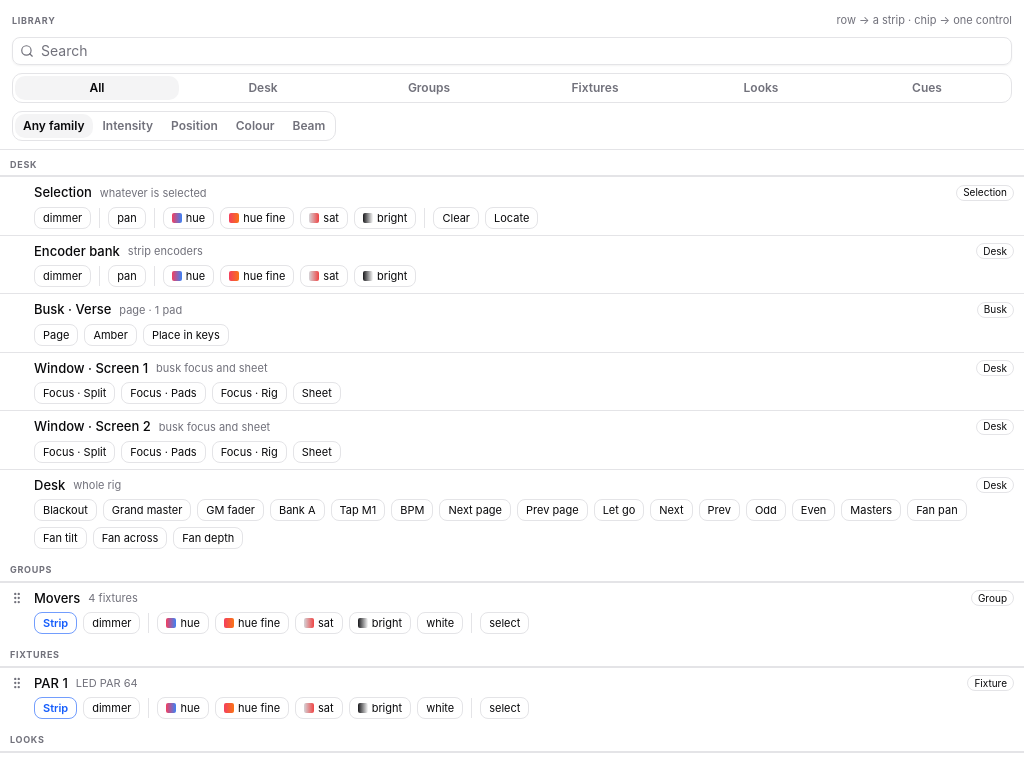
Test: SurfaceLibrary › files a palette under Looks and a busk page under Desk
The image size is (1024, 760).
Click the button "Looks" at x=761, y=88, box [679,76,843,100]
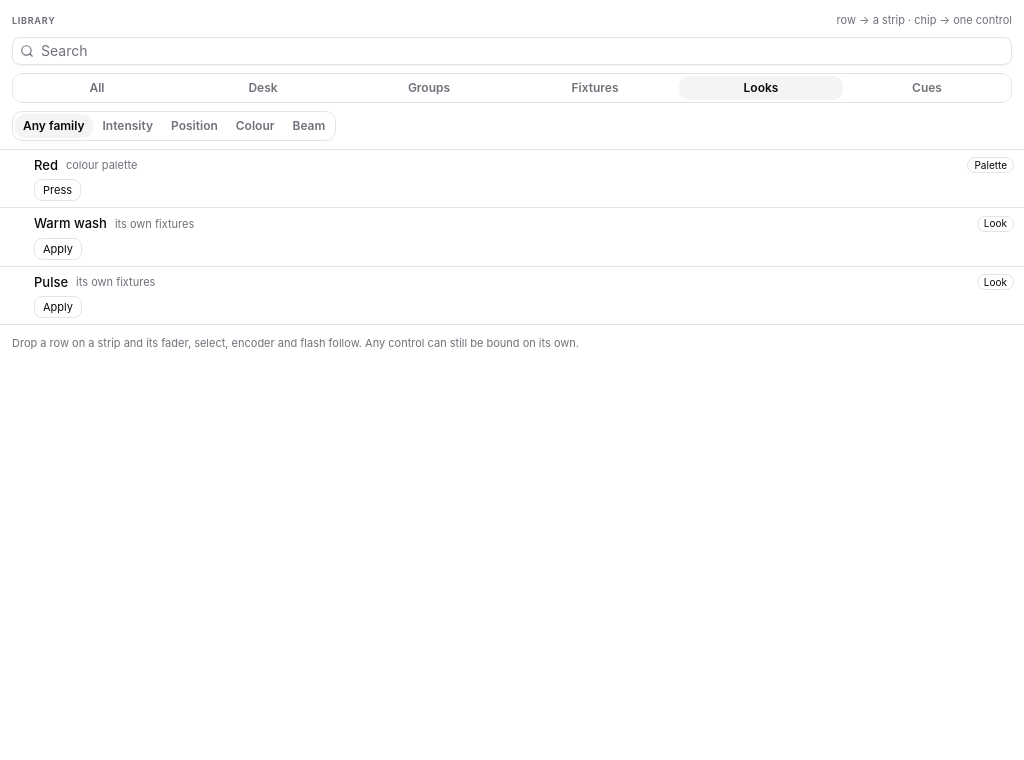
Check: the element with test id "library-row:palette:tmpl-red" is shown, box [34,156,1014,173]
Check: the element with test id "library-row:look:look-warm" is shown, box [0,207,1023,266]
Click the button "Desk" at x=263, y=88, box [181,76,345,100]
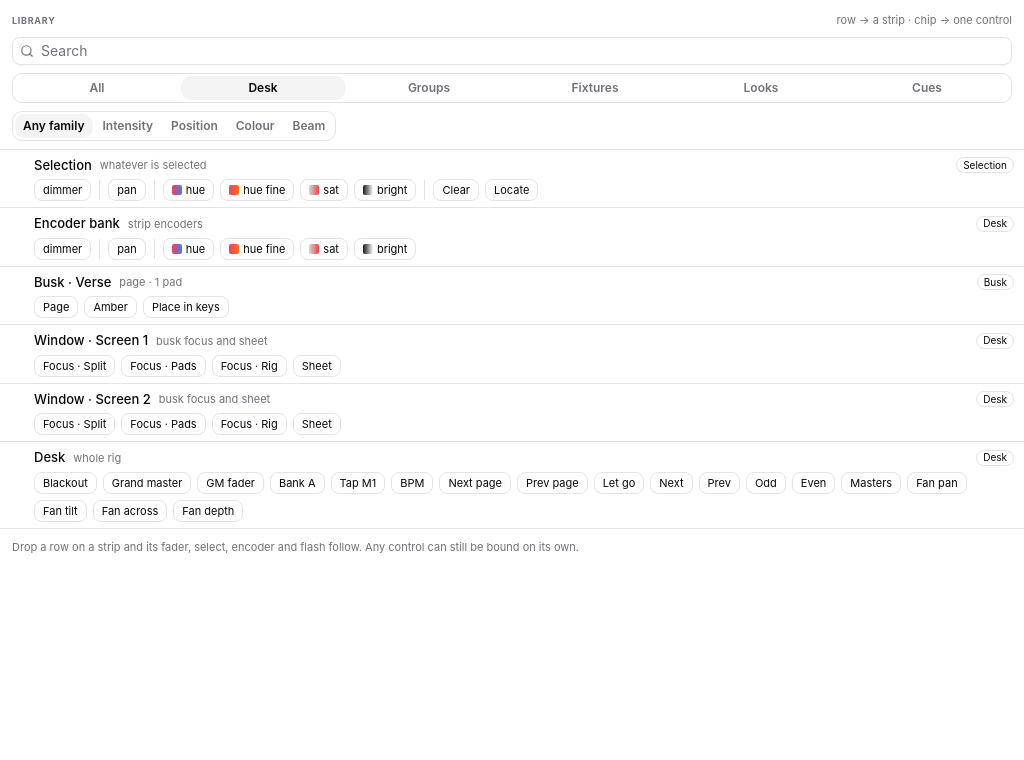
Check: the element with test id "library-row:busk-page:page-verse" is shown, box [0,266,1023,324]
